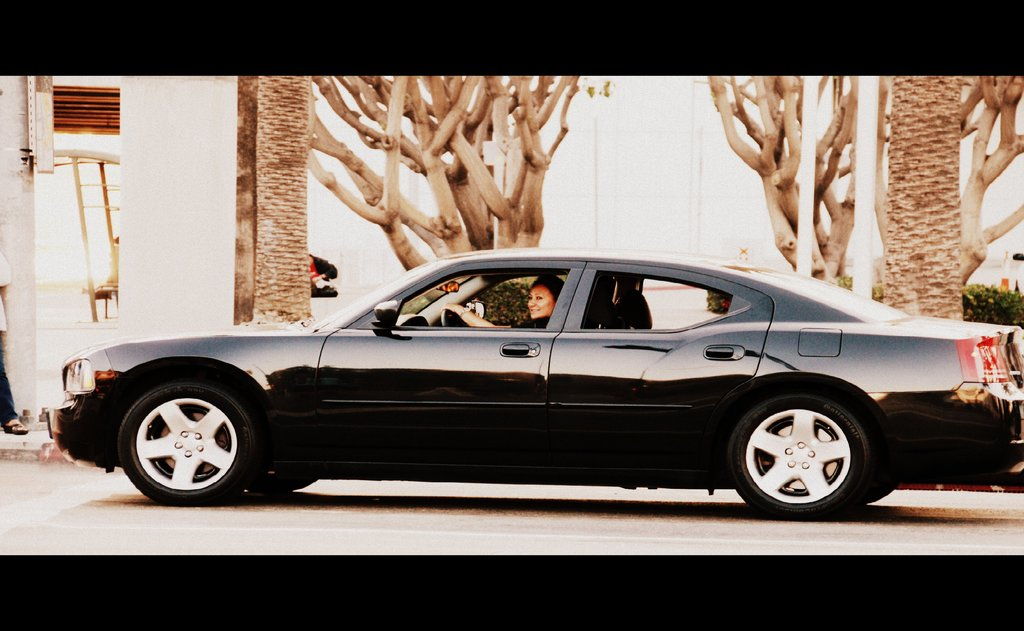cars: (47, 250, 1015, 521)
